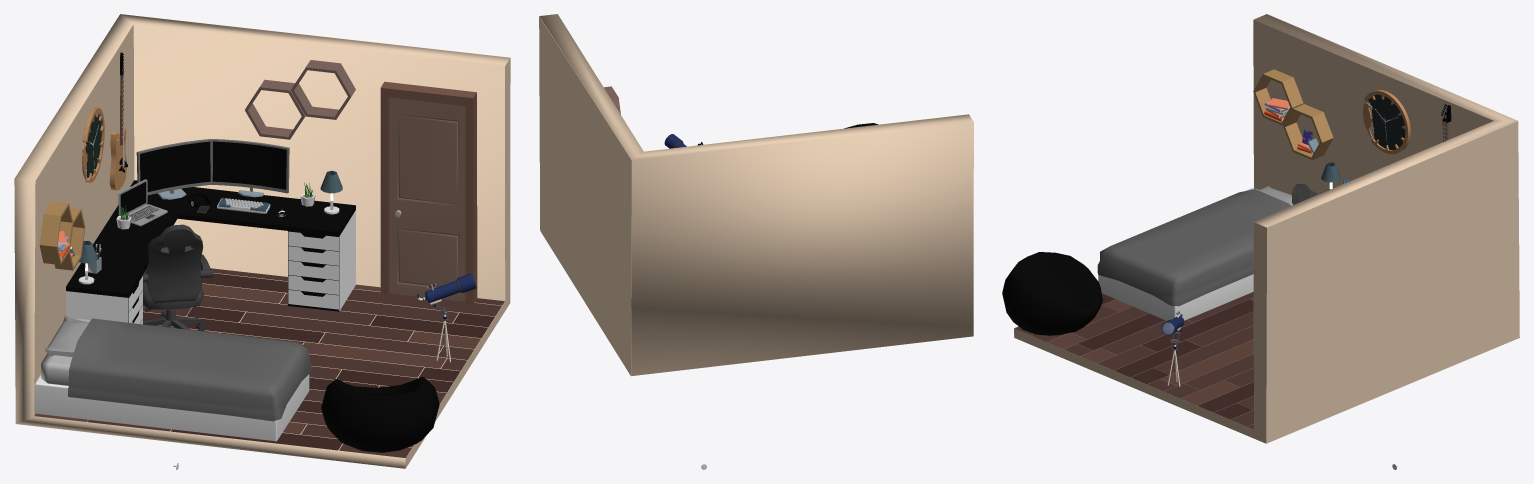
File: Portfolio Room.glb
3 renders of one model, left to right at view 1: azimuth 30°, elevation 25°; view 2: azimuth 150°, elevation 25°; view 3: azimuth 270°, elevation 25°, orthographic. The views are drawn at different scales.
Visible parts, largest first — view 1: Plane, bed.005, floor.010, office_table.028, door.011, Plane.002, armchair.001, door.022, office_chair.015, electronics.027, electronics.026, shelf.001 (+8 smaller); view 2: Plane, Plane.002; view 3: Plane.002, floor.010, bed.005, Plane, armchair.001, shelf.004, Cylinder.006_Cylinder.009, Cylinder.001_Cylinder.002.
Part boxes in pixels (x1,y1,x2,y2): Plane: (14, 14, 509, 468); bed.005: (34, 315, 311, 441); floor.010: (34, 268, 504, 457); office_table.028: (66, 180, 355, 324); door.011: (389, 97, 465, 301); Plane.002: (34, 14, 510, 468); armchair.001: (321, 376, 439, 452); door.022: (380, 81, 477, 304); office_chair.015: (142, 224, 213, 331); electronics.027: (211, 139, 289, 197); electronics.026: (136, 139, 211, 199); shelf.001: (245, 60, 355, 139); Plane: (539, 14, 973, 375); Plane.002: (539, 16, 631, 375); Plane.002: (1014, 20, 1519, 443); floor.010: (1014, 292, 1253, 429); bed.005: (1097, 186, 1292, 320); Plane: (1014, 14, 1517, 429); armchair.001: (1002, 252, 1102, 335); shelf.004: (1253, 69, 1333, 160); Cylinder.006_Cylinder.009: (1368, 94, 1405, 150); Cylinder.001_Cylinder.002: (1364, 90, 1410, 154).
Bounding box in the file's own units: 4.78 × 3.7 × 4.9.
34 materials, 3 textured.
